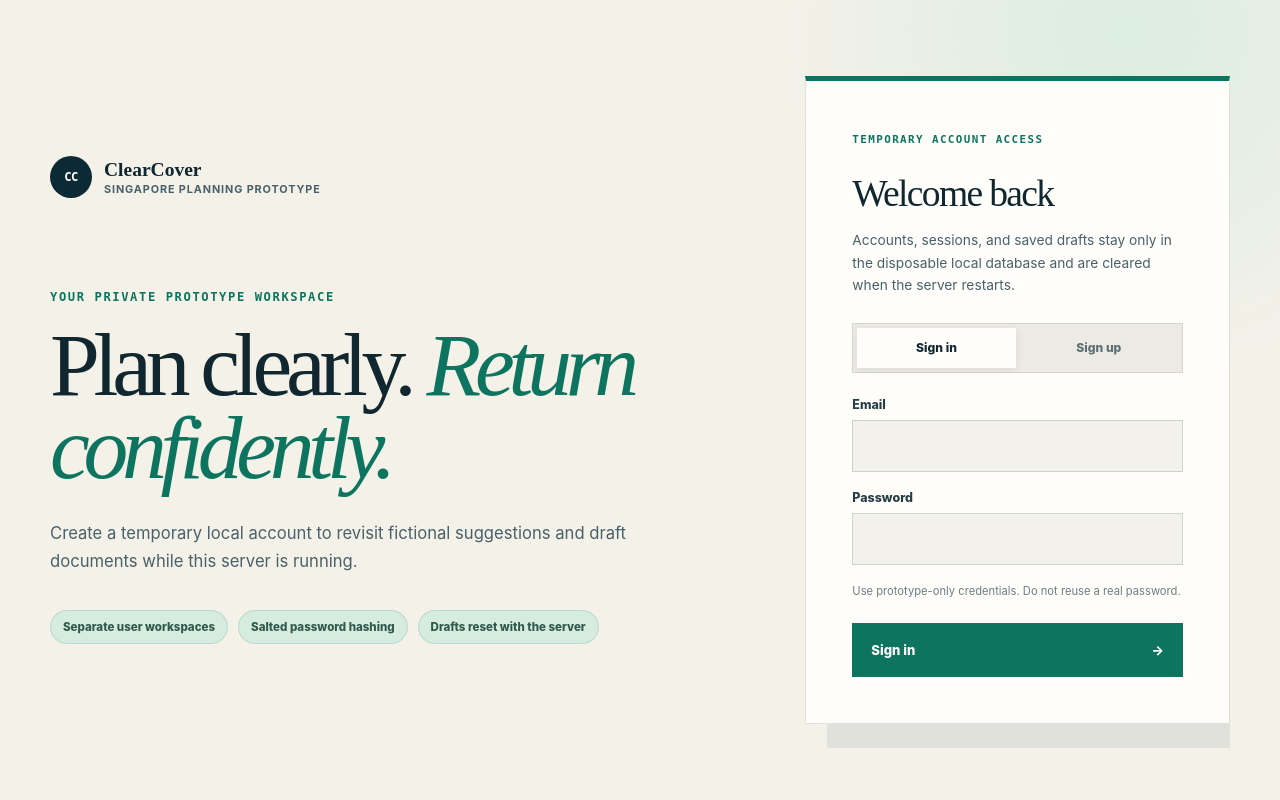
it: PlatformShell › shows the safe authentication error returned by the backend
Type "alice@example.test" into the field labelled "Email". click: [1018, 446]
box: x1=852 y1=420 x2=1183 y2=472
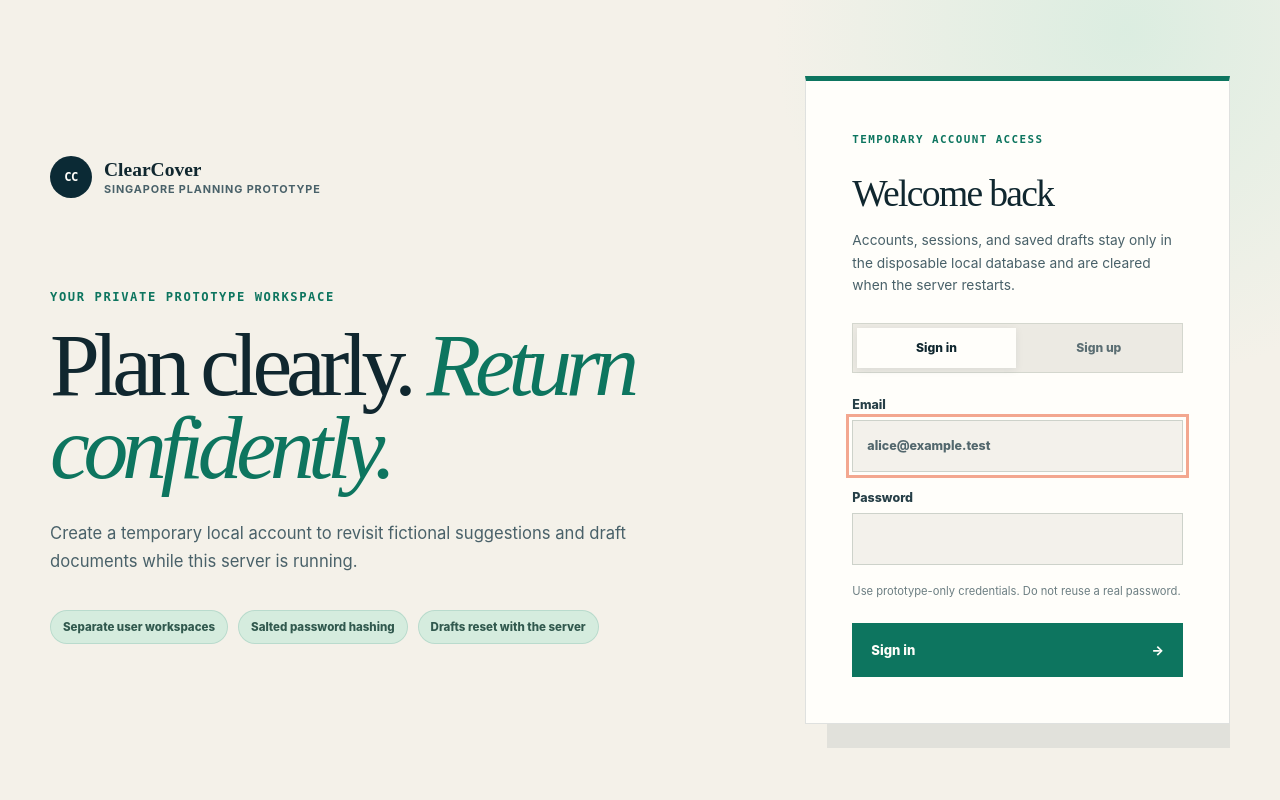
Type "wrong-password" into the password field labelled "Password". click: [1018, 539]
box: x1=852 y1=513 x2=1183 y2=565
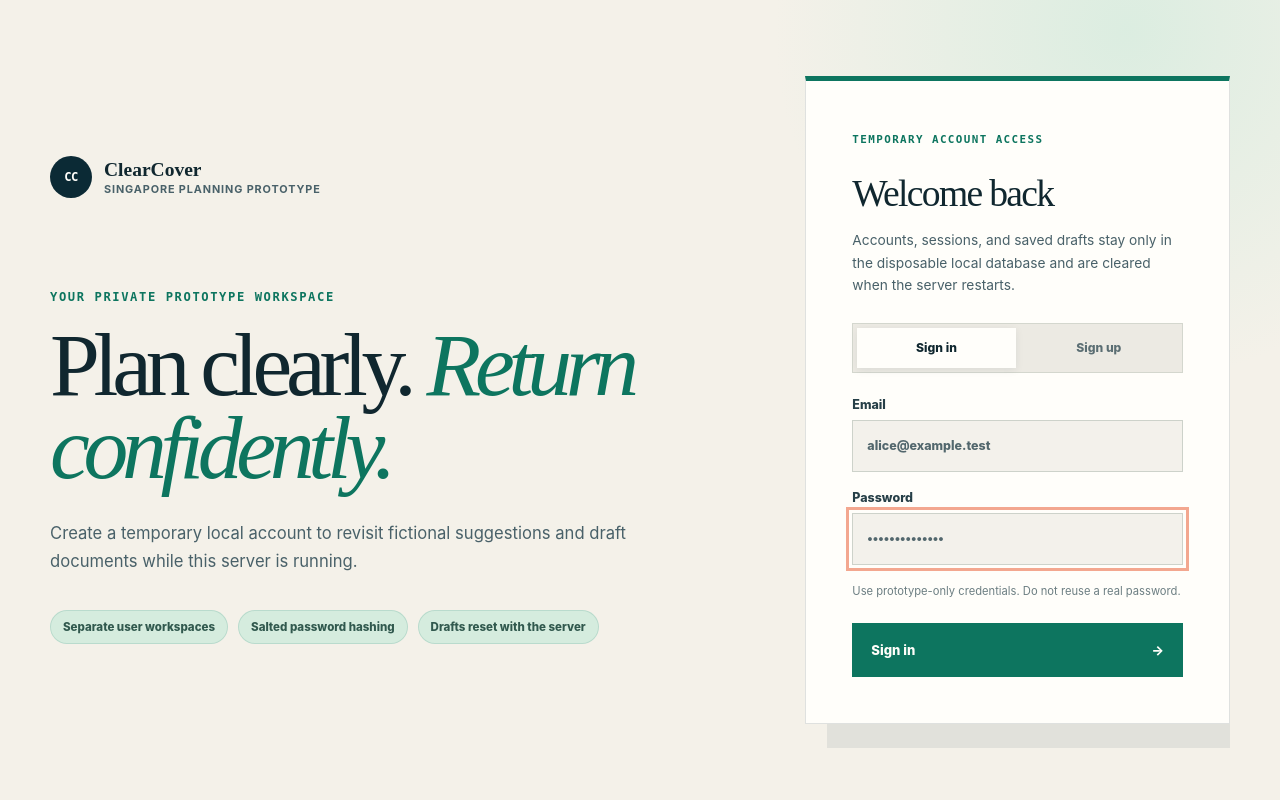
Click the button with aria-label "Sign in to workspace". click: [893, 650]
box: x1=852 y1=623 x2=1183 y2=677
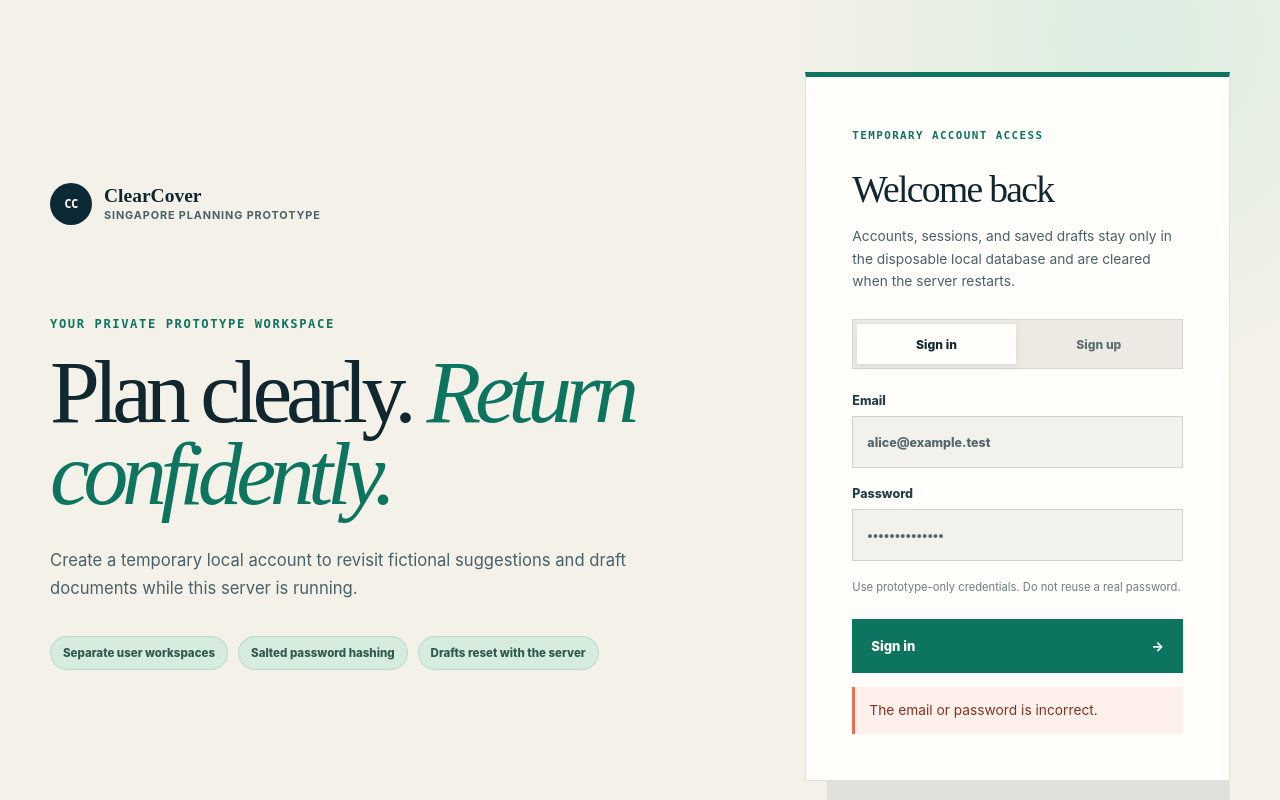
expect the message shows "email or password is incorrect": met, box x1=869 y1=702 x2=1098 y2=718
